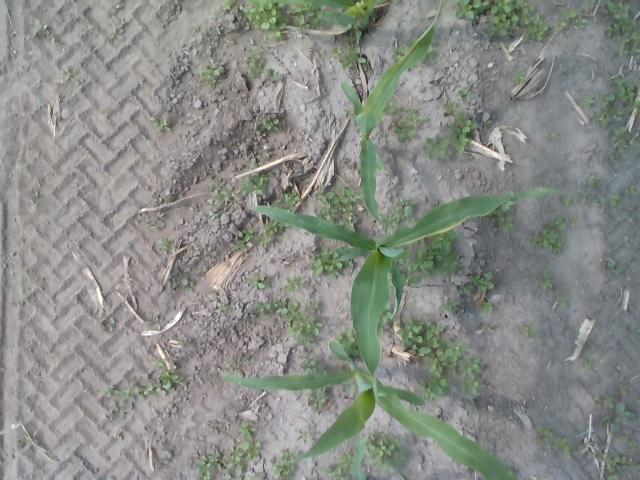Maize: (248, 188, 578, 402), (218, 338, 517, 480), (342, 0, 444, 226), (282, 0, 376, 32), (351, 434, 369, 480), (386, 461, 409, 480)
Weeds: (397, 318, 482, 398), (455, 0, 548, 42), (274, 296, 322, 347), (102, 370, 183, 399), (602, 0, 640, 56), (412, 232, 459, 276), (314, 184, 362, 224), (195, 446, 243, 480), (366, 432, 404, 472), (243, 0, 281, 28), (602, 402, 636, 433), (450, 110, 473, 154), (310, 247, 342, 278), (288, 3, 322, 32), (532, 228, 564, 255), (323, 452, 352, 480), (391, 198, 415, 224), (199, 60, 220, 88), (610, 126, 630, 154), (299, 354, 327, 374), (593, 108, 624, 126), (243, 174, 268, 196), (108, 16, 126, 46), (605, 456, 637, 472), (427, 138, 450, 160), (474, 270, 496, 292), (110, 400, 134, 420), (232, 230, 252, 254), (404, 108, 426, 128), (609, 76, 630, 96), (392, 124, 414, 142), (239, 441, 262, 458), (245, 272, 268, 288), (284, 276, 306, 292), (534, 426, 552, 444), (554, 436, 570, 456), (158, 236, 174, 256), (336, 328, 356, 344), (150, 212, 167, 230), (151, 117, 171, 132), (260, 115, 280, 130), (274, 463, 294, 478), (309, 390, 324, 410), (280, 192, 298, 208), (380, 214, 396, 232), (607, 260, 625, 276), (350, 46, 366, 63), (438, 299, 458, 312), (392, 44, 408, 60), (498, 216, 514, 232), (245, 61, 262, 76), (621, 85, 636, 102), (240, 423, 257, 438), (211, 188, 229, 202), (270, 22, 285, 38), (257, 234, 274, 248), (62, 66, 79, 80), (280, 448, 298, 461), (444, 101, 461, 114), (382, 302, 392, 324), (524, 324, 540, 337), (55, 82, 80, 90), (579, 94, 593, 108), (600, 94, 615, 107), (100, 318, 116, 330), (34, 24, 50, 36), (245, 48, 259, 61), (266, 69, 280, 82), (338, 54, 351, 68), (586, 174, 600, 187), (256, 301, 270, 314), (181, 277, 194, 290), (459, 284, 473, 296), (268, 220, 280, 234), (384, 101, 398, 113), (552, 217, 566, 229), (151, 356, 165, 368), (342, 380, 354, 393), (228, 185, 240, 198), (298, 429, 310, 442), (610, 192, 620, 207), (554, 20, 566, 32), (514, 71, 526, 83), (502, 201, 515, 212), (222, 0, 236, 10), (564, 8, 578, 18), (458, 88, 472, 98), (558, 294, 568, 308), (603, 395, 613, 409), (628, 438, 638, 451), (630, 134, 640, 146), (18, 434, 27, 447), (630, 328, 640, 339), (540, 280, 552, 289), (575, 18, 585, 28), (584, 0, 594, 10), (212, 176, 222, 186), (562, 198, 572, 208), (482, 302, 492, 312), (625, 185, 636, 194), (427, 46, 434, 60), (618, 383, 626, 395), (570, 215, 578, 227), (102, 108, 112, 116), (581, 190, 587, 203), (615, 436, 628, 442), (594, 396, 601, 407), (631, 101, 640, 109), (540, 268, 552, 274), (218, 300, 225, 310), (166, 191, 173, 201), (214, 422, 220, 433), (488, 324, 496, 332), (610, 154, 618, 162), (249, 158, 255, 168), (209, 212, 217, 219), (333, 46, 340, 54), (188, 244, 195, 252), (635, 208, 640, 219), (608, 475, 619, 480), (548, 132, 556, 138), (588, 354, 596, 360), (578, 443, 586, 449), (488, 77, 496, 82), (544, 180, 550, 186), (584, 362, 590, 368), (154, 198, 162, 202)
